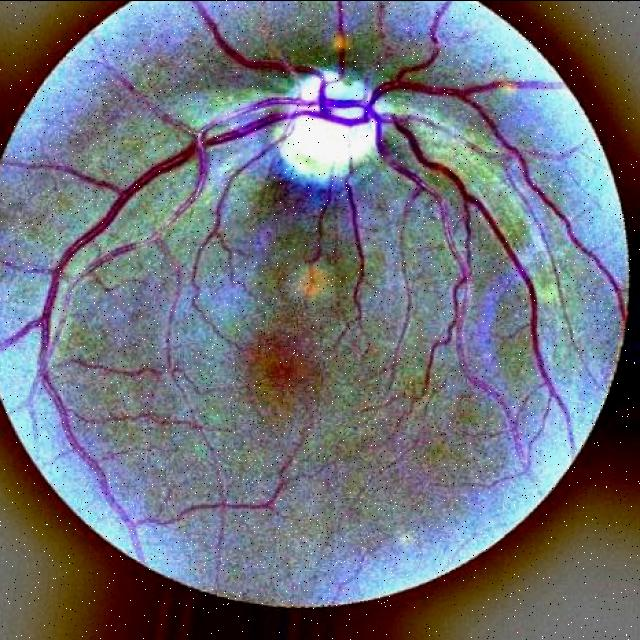Macula: (227, 330, 358, 417)
Nerves: (12, 6, 604, 523)
Optic Disk: (256, 52, 408, 203)
